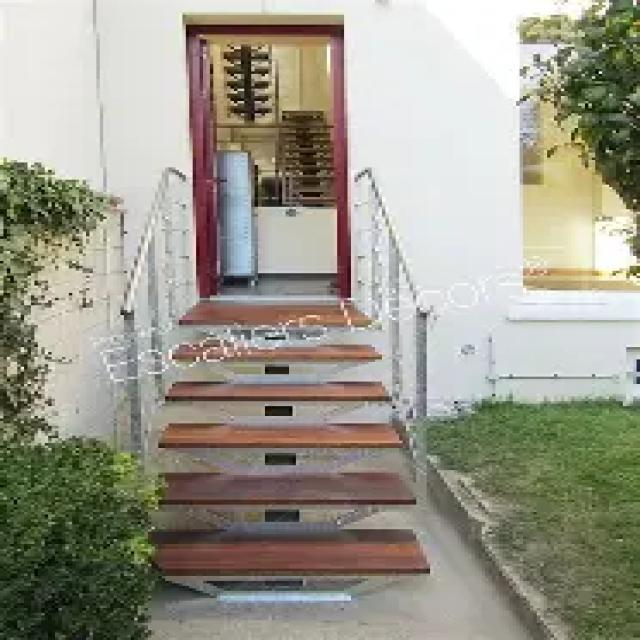Stairs: (102, 290, 457, 623)
